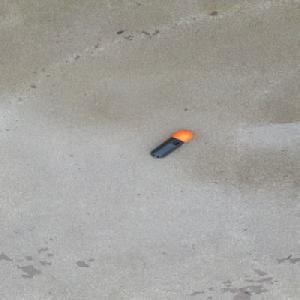PlasticPart: (149, 130, 193, 158)
